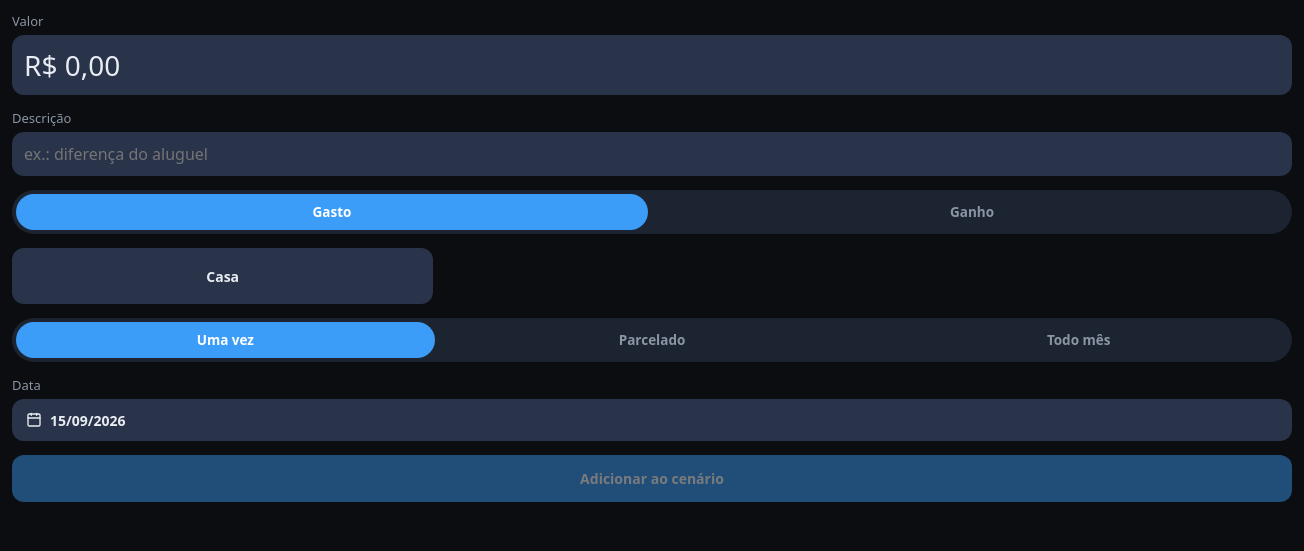
Todo mês mostra a dica de lançar só a diferença
Click the radio button labelled "Todo mês".
click(1079, 340)  # box [869, 322, 1288, 358]
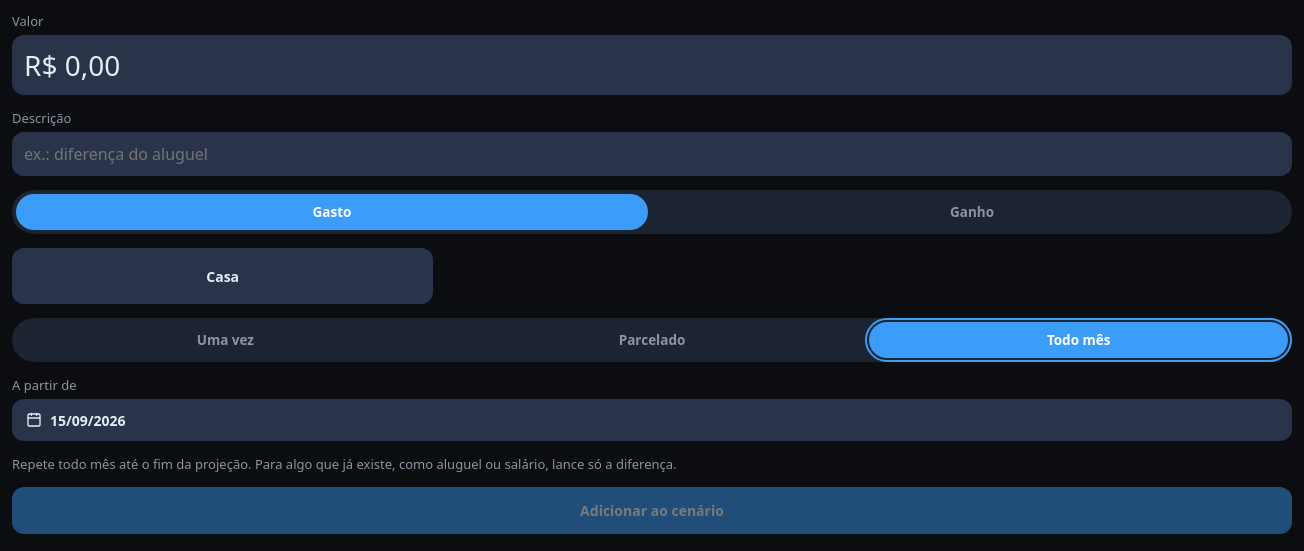
Now the text "lance só a diferença" is shown, box [12, 455, 677, 473]
